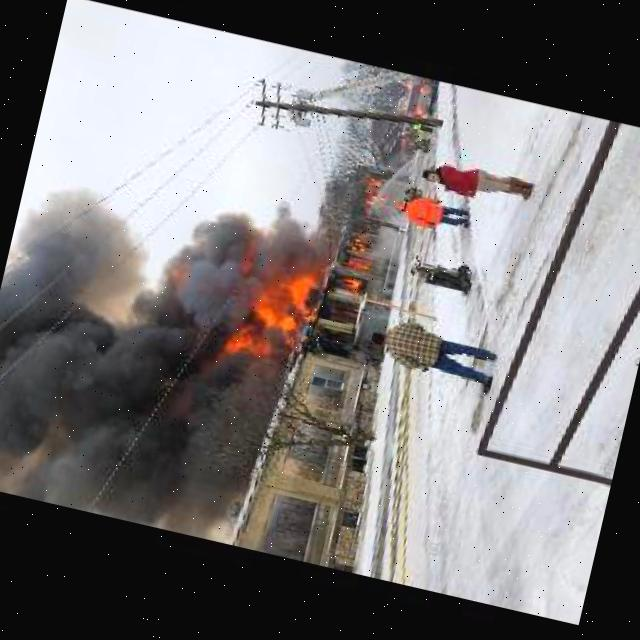fire: (223, 253, 322, 364)
